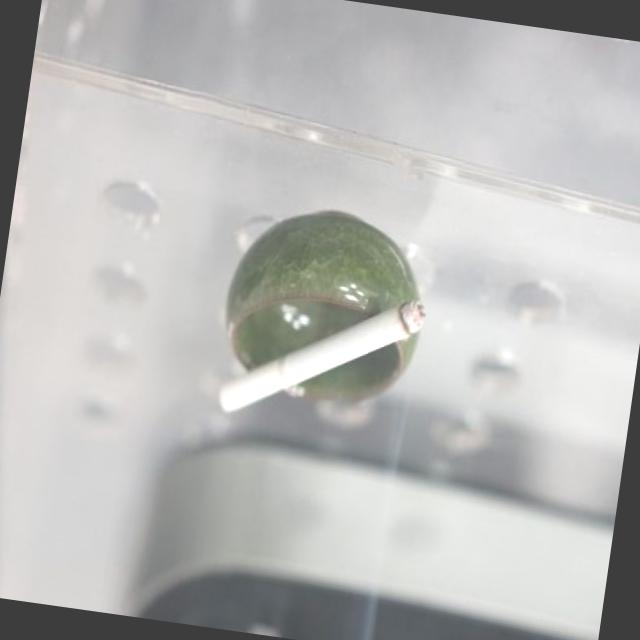cigarette: (210, 274, 428, 444)
